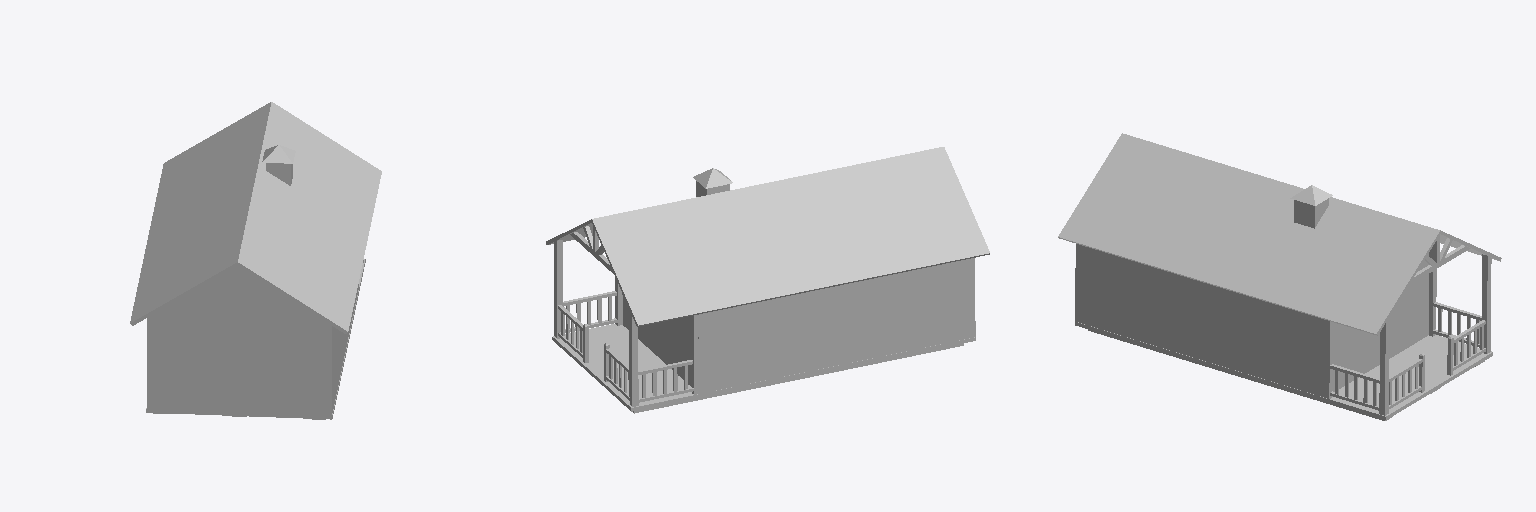
The model's file is house.obj.
3 renders of one model, left to right at view 1: azimuth 30°, elevation 25°; view 2: azimuth 150°, elevation 25°; view 3: azimuth 270°, elevation 25°, orthographic.
Parts seen in each view (by area): view 1: House; view 2: House; view 3: House.
Boxes of the visible parts, x1=… form: House: x1=130, y1=102, x2=381, y2=419; House: x1=546, y1=147, x2=989, y2=413; House: x1=1058, y1=133, x2=1501, y2=420.
Size of the model in its own units: 2.82 by 1.39 by 3.11.